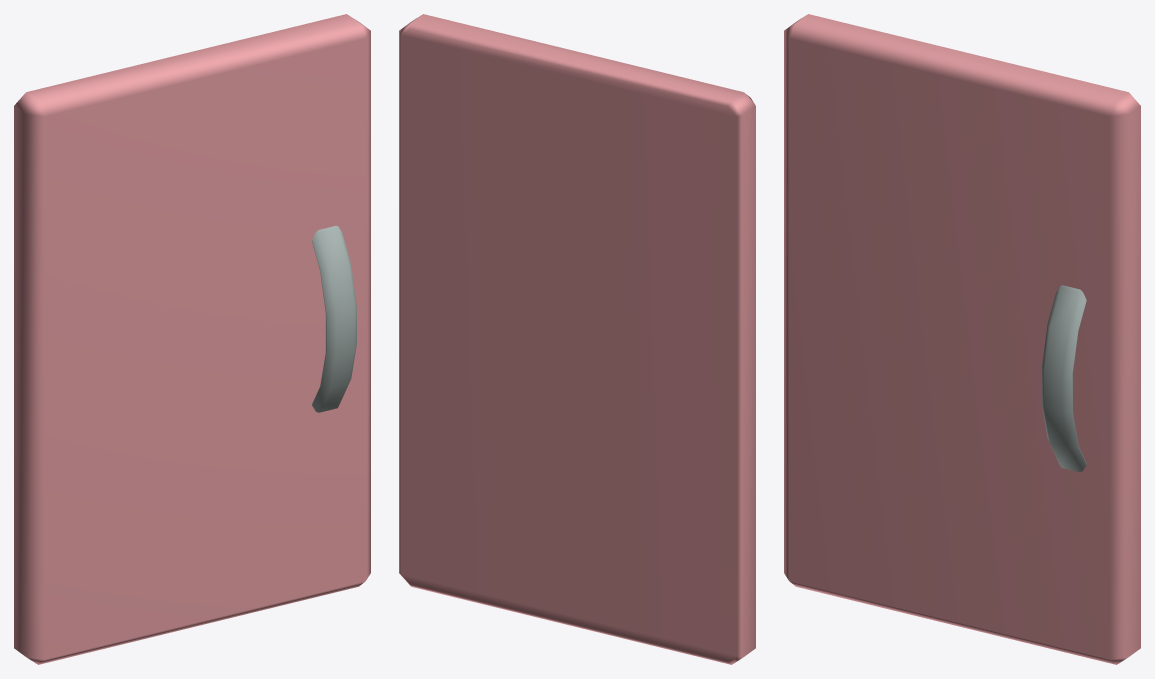
File: SingleDoor-teste.fbx
3 views of the same model, side by side, from view 1: azimuth 30°, elevation 25°; view 2: azimuth 150°, elevation 25°; view 3: azimuth 330°, elevation 25° (orthographic).
Visible parts, largest first — view 1: Counter.004; view 2: Counter.004; view 3: Counter.004.
Part boxes in pixels (<box>): Counter.004: <box>14,14,370,664</box>; Counter.004: <box>399,14,755,664</box>; Counter.004: <box>784,14,1140,664</box>.
Bounding box in the file's own units: 38.73 × 60.57 × 7.67.
